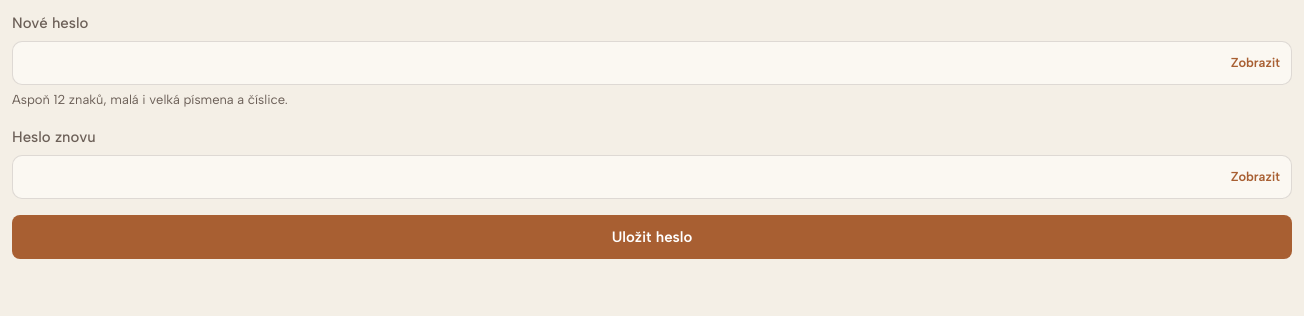
Test: PasswordForm – nastavení hesla › úspěch: uloží, vyprázdní pole a řekne, jak se přihlásit v aplikaci na ploše
Type "Kozena-Dilna-2026" into the password field labelled "Nové heslo".
click(652, 63); type("Kozena-Dilna-2026")  # box [12, 41, 1292, 85]
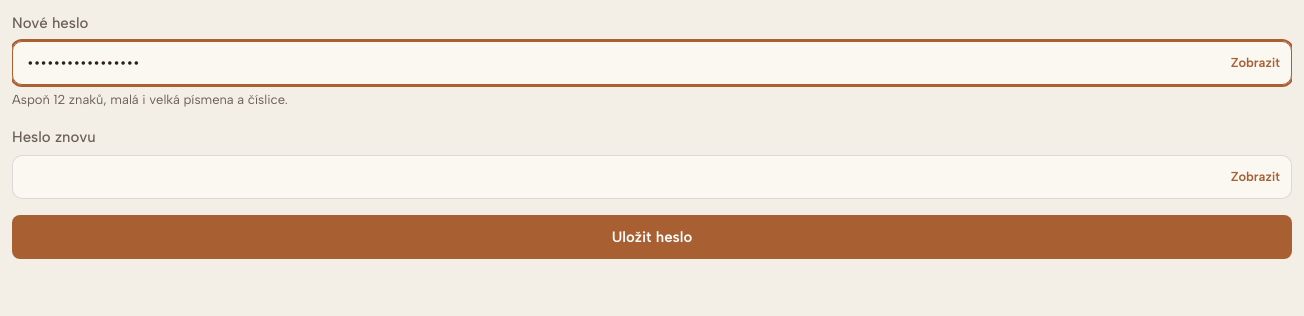
Type "Kozena-Dilna-2026" into the password field labelled "Heslo znovu".
click(652, 177); type("Kozena-Dilna-2026")  # box [12, 155, 1292, 199]
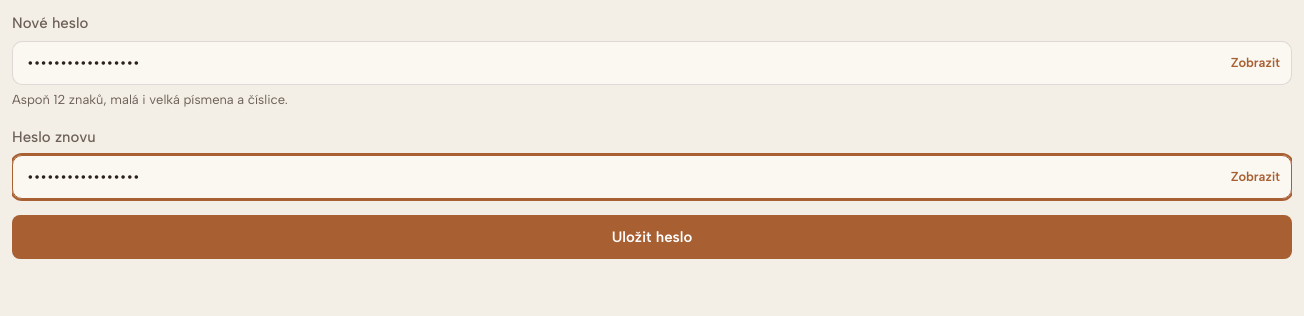
Click the button "Uložit heslo".
click(652, 237)  # box [12, 215, 1292, 259]
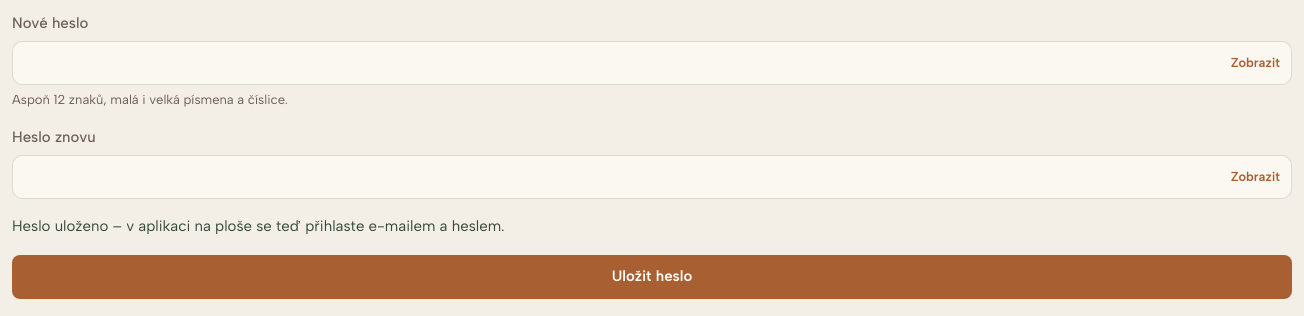
Expected: the message reads "Heslo uloženo – v aplikaci na ploše se teď přihlaste e-mailem a heslem.", [12, 217, 505, 235]
Expected: the password field labelled "Nové heslo" is empty, [12, 41, 1292, 85]
Expected: the password field labelled "Heslo znovu" is empty, [12, 155, 1292, 199]
